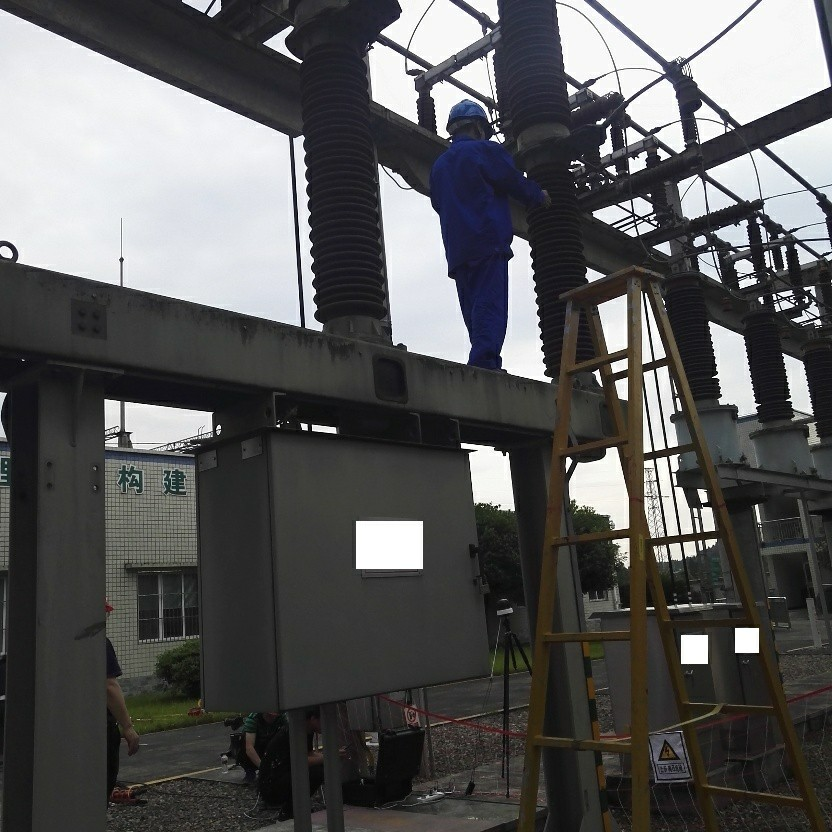hat: (441, 95, 491, 145)
